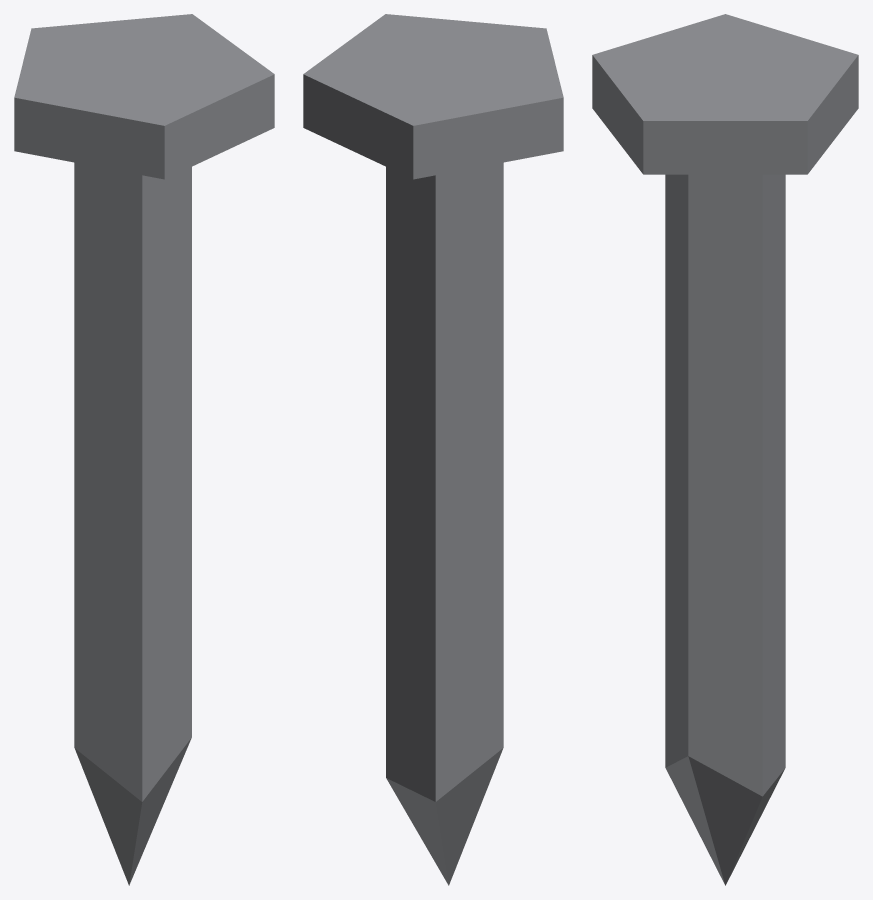
Rendered from SM_Item_Nail_01.fbx.
3 renders of one model, left to right at view 1: azimuth 30°, elevation 25°; view 2: azimuth 150°, elevation 25°; view 3: azimuth 270°, elevation 25°, orthographic.
Parts seen in each view (by area): view 1: SM_Item_Nail_01; view 2: SM_Item_Nail_01; view 3: SM_Item_Nail_01.
Part boxes in pixels (x1,y1,x2,y2): SM_Item_Nail_01: (14, 14, 274, 885); SM_Item_Nail_01: (303, 14, 563, 885); SM_Item_Nail_01: (592, 14, 858, 885).
Bounding box in the file's own units: 3.52 × 12.51 × 3.7.
